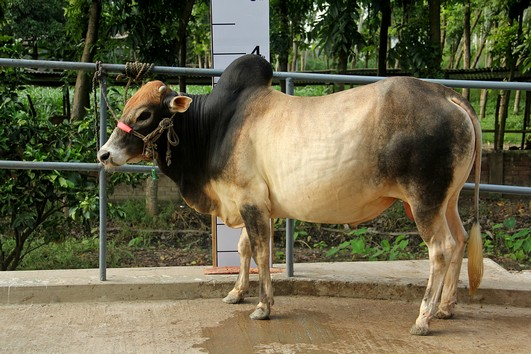cow: (88, 50, 493, 340)
